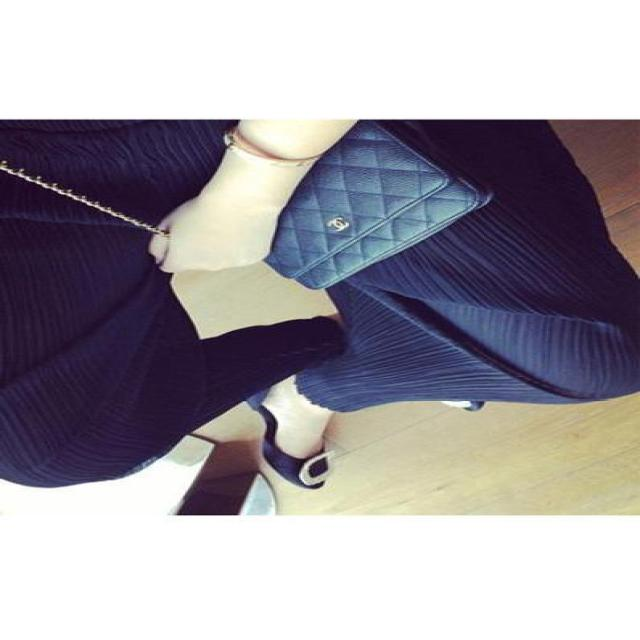trousers: (3, 120, 635, 491)
